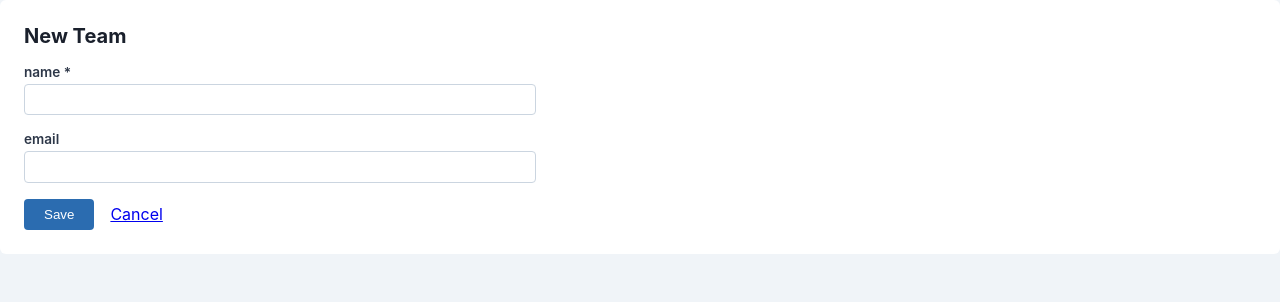
Test: NodeEditor › shows what the server refused rather than failing silently
The image size is (1280, 302).
Type "platform" into the field named "name" at (280, 100), box [24, 84, 536, 115]
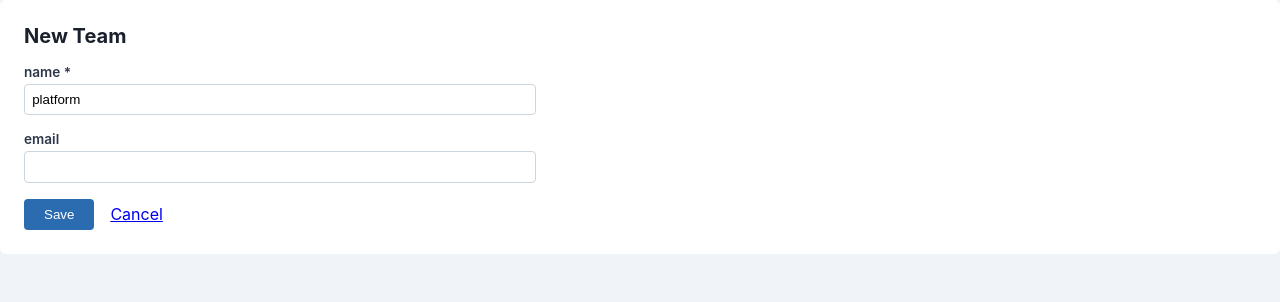
Submit the form, box [24, 64, 536, 230]
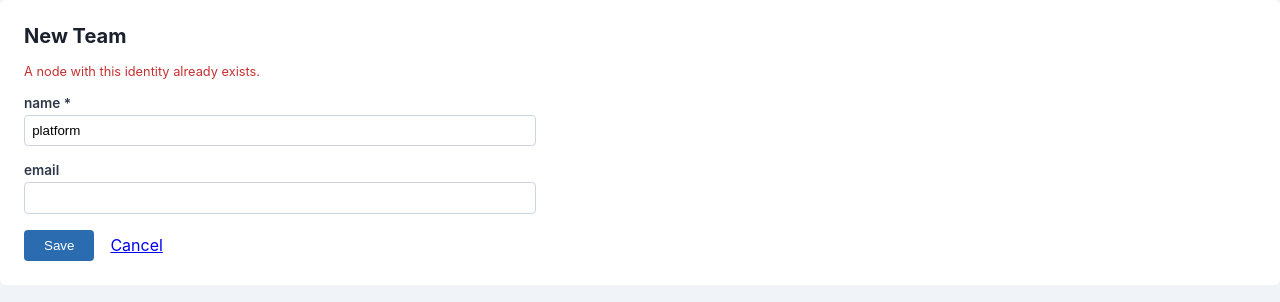
Result: the text "already exists" is shown at [24, 64, 260, 79]
